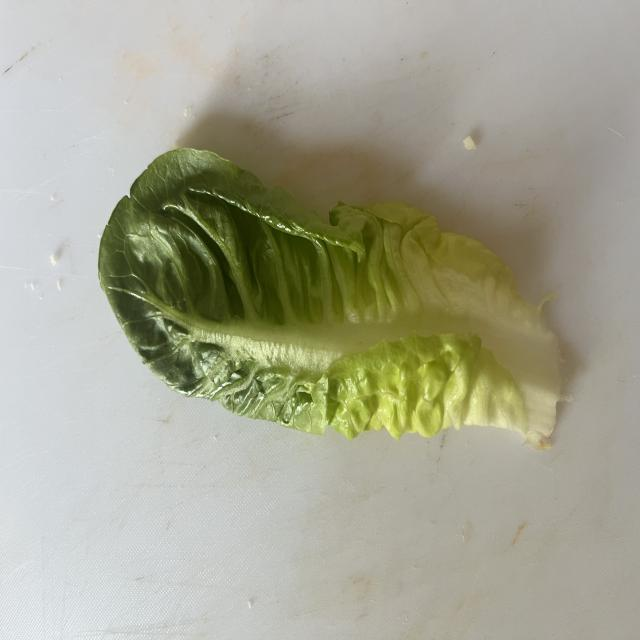lettuce: (99, 148, 560, 449)
